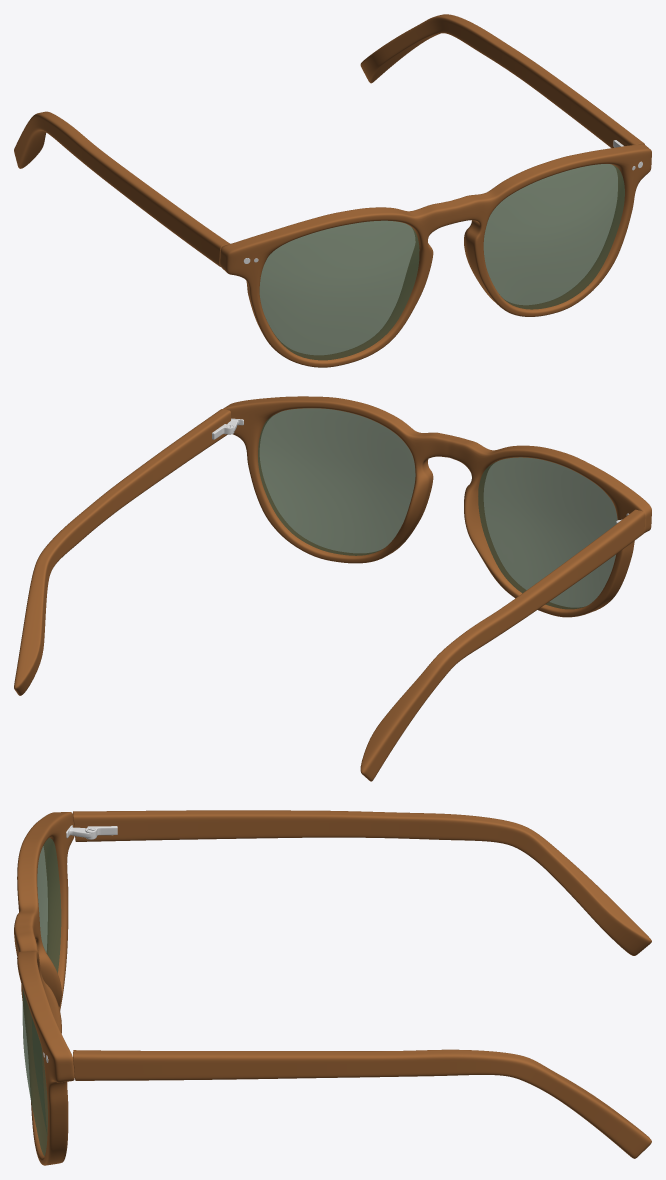
The model's file is waller-sun-sbf-apricot_medium.glb.
3 renders of one model, top to bottom at view 1: azimuth 30°, elevation 25°; view 2: azimuth 150°, elevation 25°; view 3: azimuth 270°, elevation 25°, orthographic. The views are drawn at different scales.
Parts seen in each view (by area): view 1: lenses, face_front, left_temple, right_temple; view 2: lenses, face_front, right_temple, left_temple; view 3: right_temple, left_temple, face_front, lenses.
Boxes of the visible parts, x1,y1,x2,y2 form: lenses: (259,164,624,360); face_front: (220,144,651,367); left_temple: (360,14,644,147); right_temple: (14,111,229,266); lenses: (258,408,617,609); face_front: (223,396,651,617); right_temple: (360,509,645,781); left_temple: (14,409,230,695); right_temple: (73,810,651,955); left_temple: (73,1049,651,1158); face_front: (14,812,74,1165); lenses: (22,837,61,1156).
Bounding box in the file's own units: 0.1373 × 0.047 × 0.1494.
